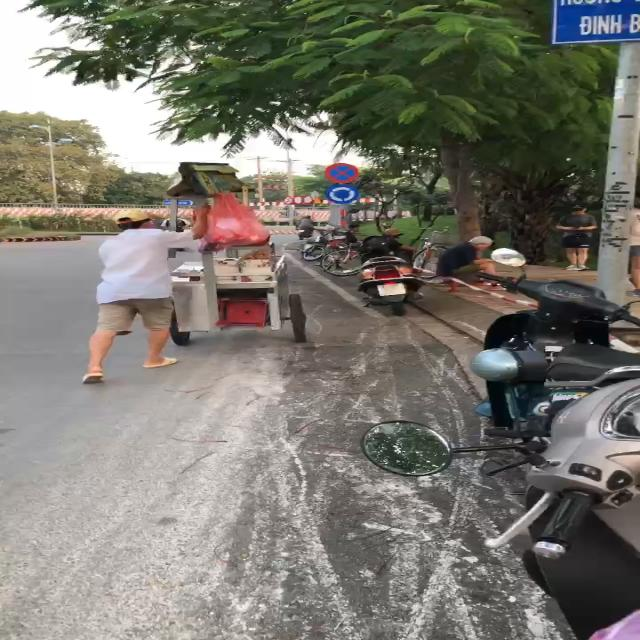Bien bao noi giao nhau chay theo vong xuyen: (323, 184, 368, 206)
